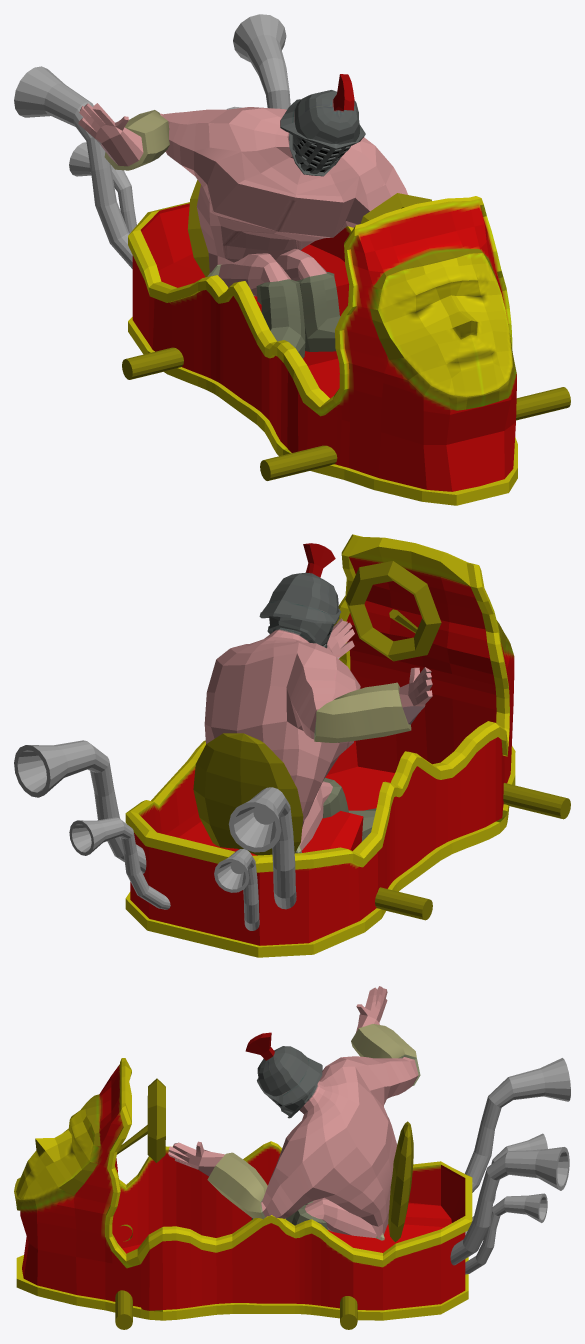
File: GladiLanzamiento_000522.obj
3 renders of one model, top to bottom at view 1: azimuth 30°, elevation 25°; view 2: azimuth 150°, elevation 25°; view 3: azimuth 270°, elevation 25°, orthographic. The views are drawn at different scales.
Parts seen in each view (by area): view 1: GladiChasis_GladiChasisH, Gadiador_Gladiador_H.001, GladiTubos_GladiTubosH, GladiVolante_GladiVolanteH; view 2: GladiChasis_GladiChasisH, Gadiador_Gladiador_H.001, GladiVolante_GladiVolanteH, GladiTubos_GladiTubosH; view 3: GladiChasis_GladiChasisH, Gadiador_Gladiador_H.001, GladiTubos_GladiTubosH, GladiVolante_GladiVolanteH.
Part boxes in pixels (bbox=[...]): GladiChasis_GladiChasisH: bbox=[128, 196, 517, 505]; Gadiador_Gladiador_H.001: bbox=[78, 74, 407, 358]; GladiTubos_GladiTubosH: bbox=[14, 14, 290, 268]; GladiVolante_GladiVolanteH: bbox=[122, 180, 570, 480]; GladiChasis_GladiChasisH: bbox=[125, 534, 515, 957]; Gadiador_Gladiador_H.001: bbox=[204, 543, 432, 853]; GladiVolante_GladiVolanteH: bbox=[193, 561, 570, 920]; GladiTubos_GladiTubosH: bbox=[14, 740, 296, 930]; GladiChasis_GladiChasisH: bbox=[14, 1058, 472, 1320]; Gadiador_Gladiador_H.001: bbox=[168, 986, 420, 1240]; GladiTubos_GladiTubosH: bbox=[450, 1058, 570, 1274]; GladiVolante_GladiVolanteH: bbox=[115, 1078, 413, 1329].
Bounding box in the file's own units: 5.95 × 5.34 × 10.78.
